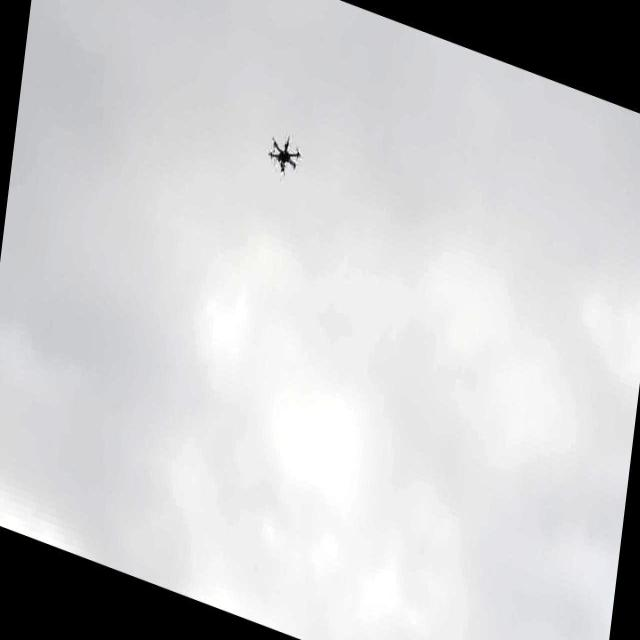drone: (260, 121, 305, 188)
